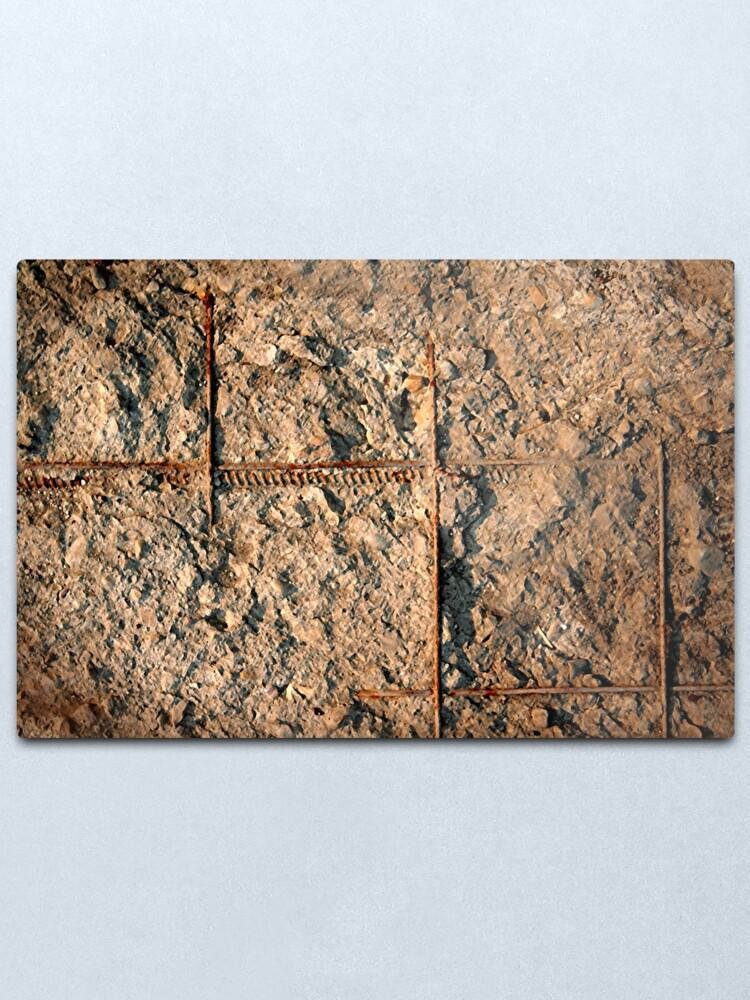Exposed reinforcement: (17, 470, 445, 490), (20, 457, 658, 470), (353, 682, 733, 700), (431, 343, 444, 738), (653, 443, 667, 737), (202, 290, 219, 524)
